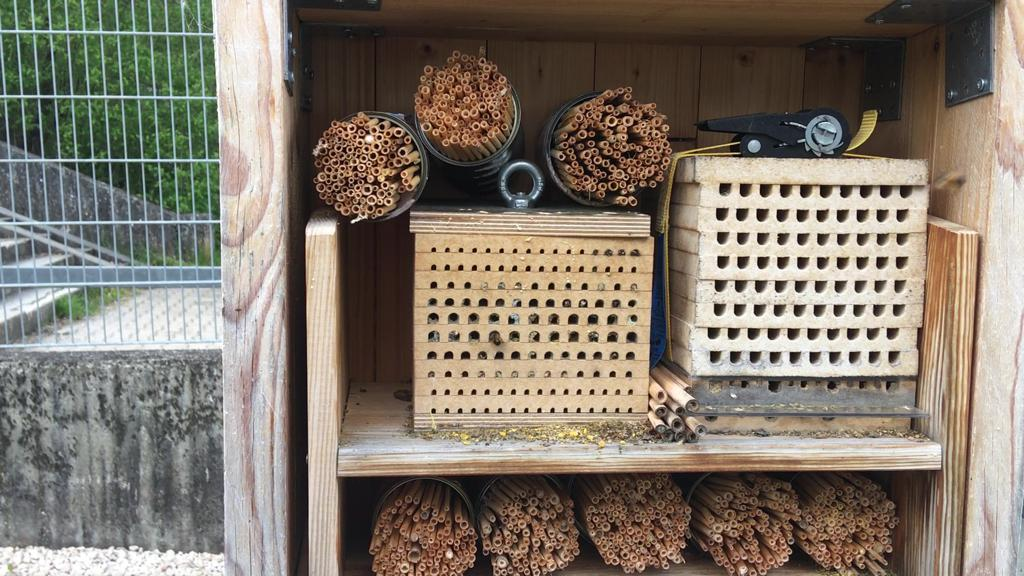bee: (485, 330, 507, 352)
